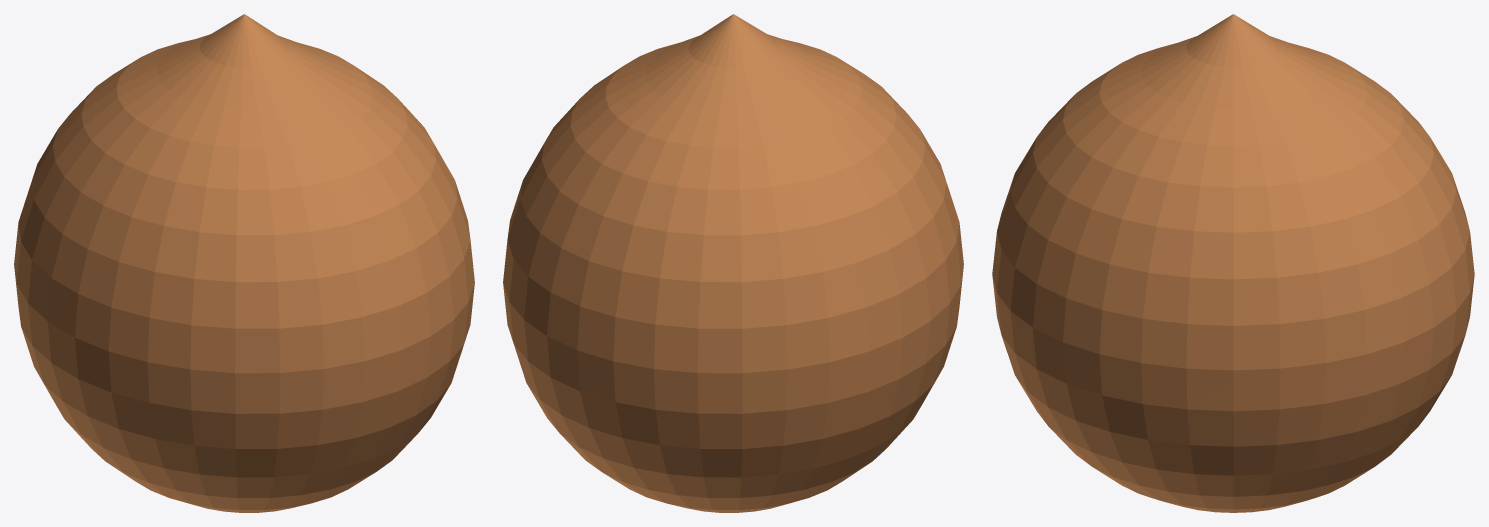
The model's file is nuts.obj.
3 renders of one model, left to right at view 1: azimuth 30°, elevation 25°; view 2: azimuth 150°, elevation 25°; view 3: azimuth 270°, elevation 25°, orthographic.
Parts seen in each view (by area): view 1: 球; view 2: 球; view 3: 球.
Part boxes in pixels (x1,y1,x2,y2): 球: [14, 14, 474, 512]; 球: [503, 14, 963, 512]; 球: [992, 14, 1474, 512].
Size of the model in its own units: 3.07 by 3.56 by 3.25.
1 material, 1 textured.
